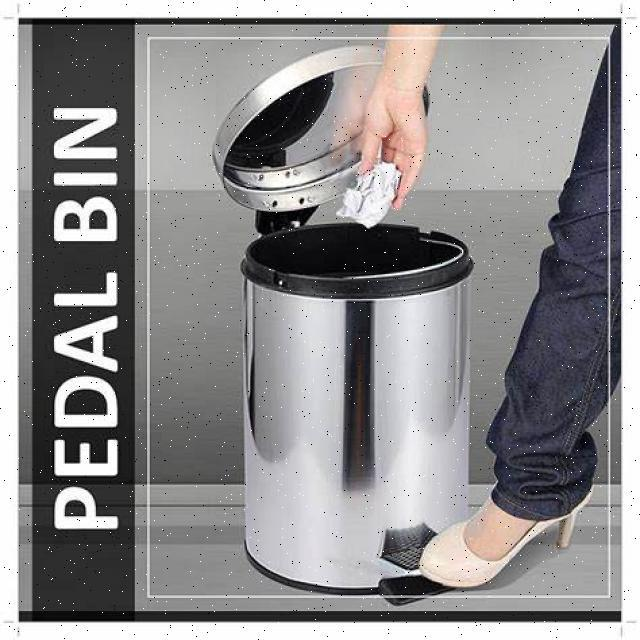garbage container: (206, 46, 488, 585)
